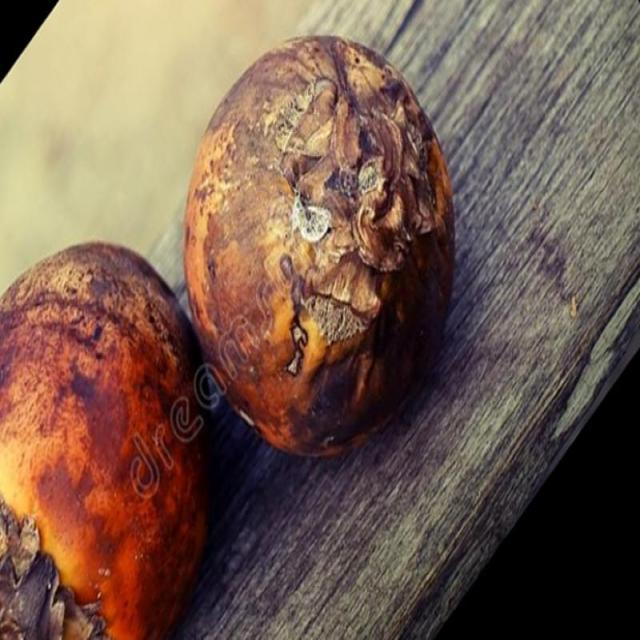damaged: (184, 36, 454, 455), (0, 243, 206, 639)
